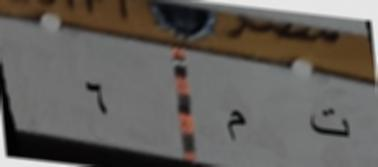6: (73, 75, 118, 126)
meem: (204, 100, 252, 155)
taa: (296, 102, 356, 146)
